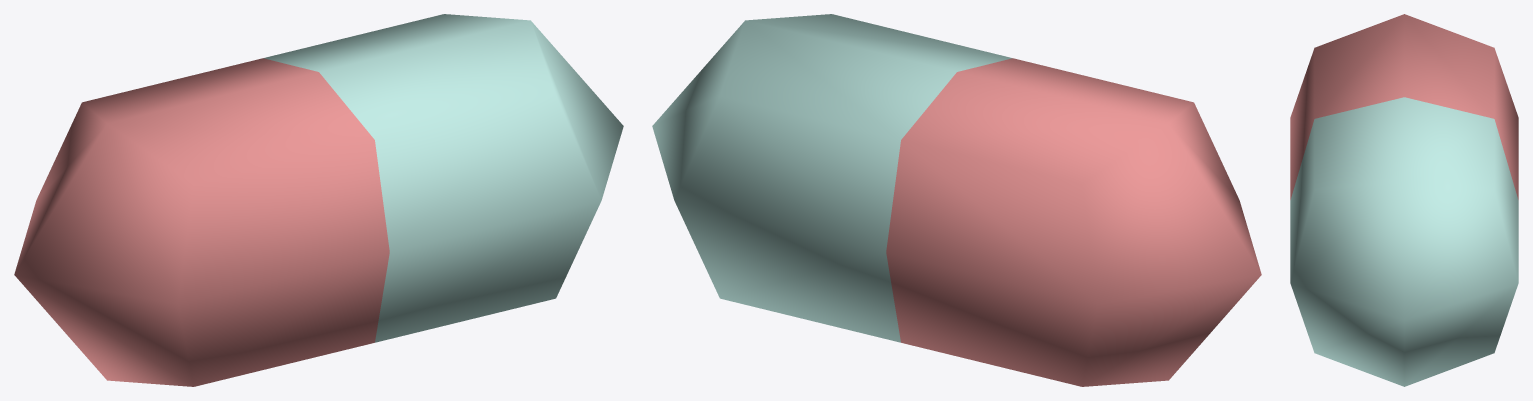
Rendered from Pill.fbx.
3 views of the same model, side by side, from view 1: azimuth 30°, elevation 25°; view 2: azimuth 150°, elevation 25°; view 3: azimuth 270°, elevation 25° (orthographic). The views are drawn at different scales.
Parts seen in each view (by area): view 1: Pill; view 2: Pill; view 3: Pill.
Part boxes in pixels (box(x1,y1,x2,y2)): Pill: box(14, 14, 623, 386); Pill: box(652, 14, 1261, 386); Pill: box(1290, 14, 1518, 386).
Size of the model in its own units: 1.05 by 0.4222 by 0.4222.
